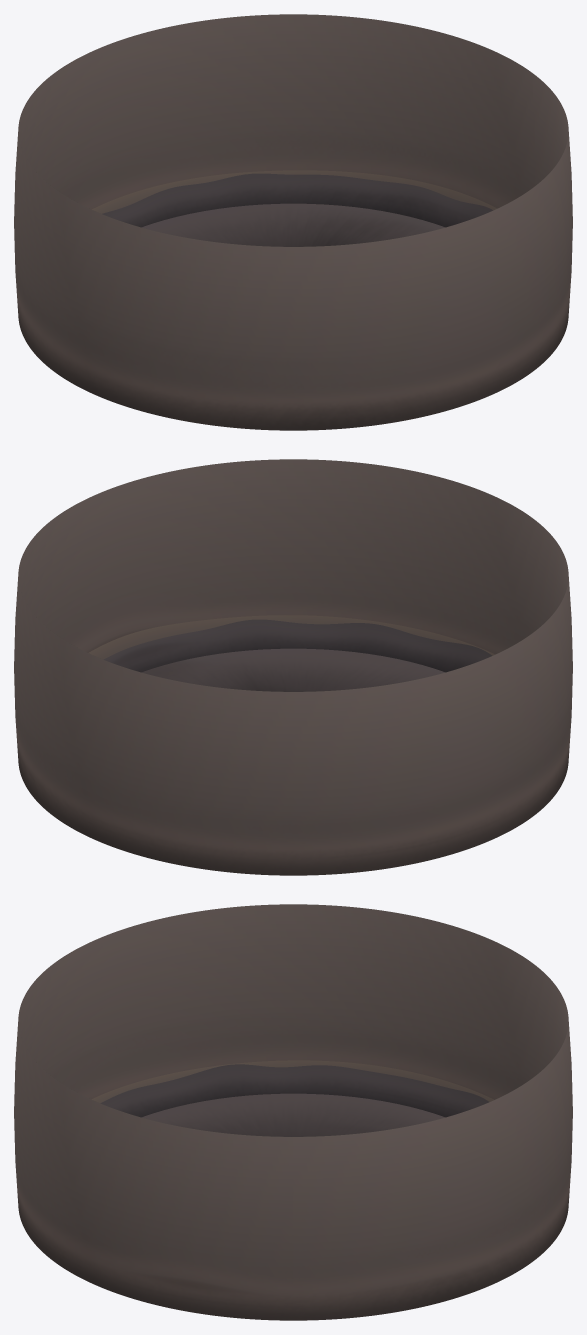
The model's file is old-canal-panorama.glb.
3 views of the same model, one above another, from view 1: azimuth 30°, elevation 25°; view 2: azimuth 150°, elevation 25°; view 3: azimuth 270°, elevation 25° (orthographic).
Visible parts, largest first — view 1: OldCanalPanorama; view 2: OldCanalPanorama; view 3: OldCanalPanorama.
Part boxes in pixels (bbox=[...]): OldCanalPanorama: bbox=[14, 14, 572, 430]; OldCanalPanorama: bbox=[14, 459, 572, 875]; OldCanalPanorama: bbox=[14, 904, 572, 1320].
Bounding box in the file's own units: 386 × 140 × 386.
1 material, 1 textured.
